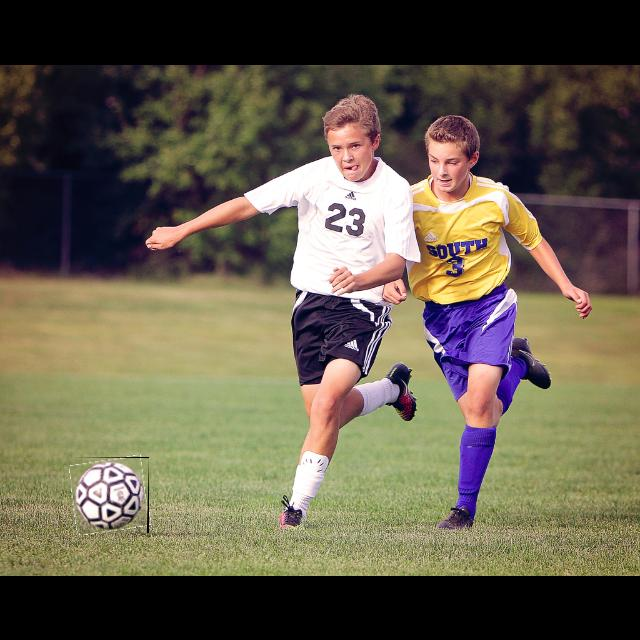Football: (71, 457, 149, 533)
